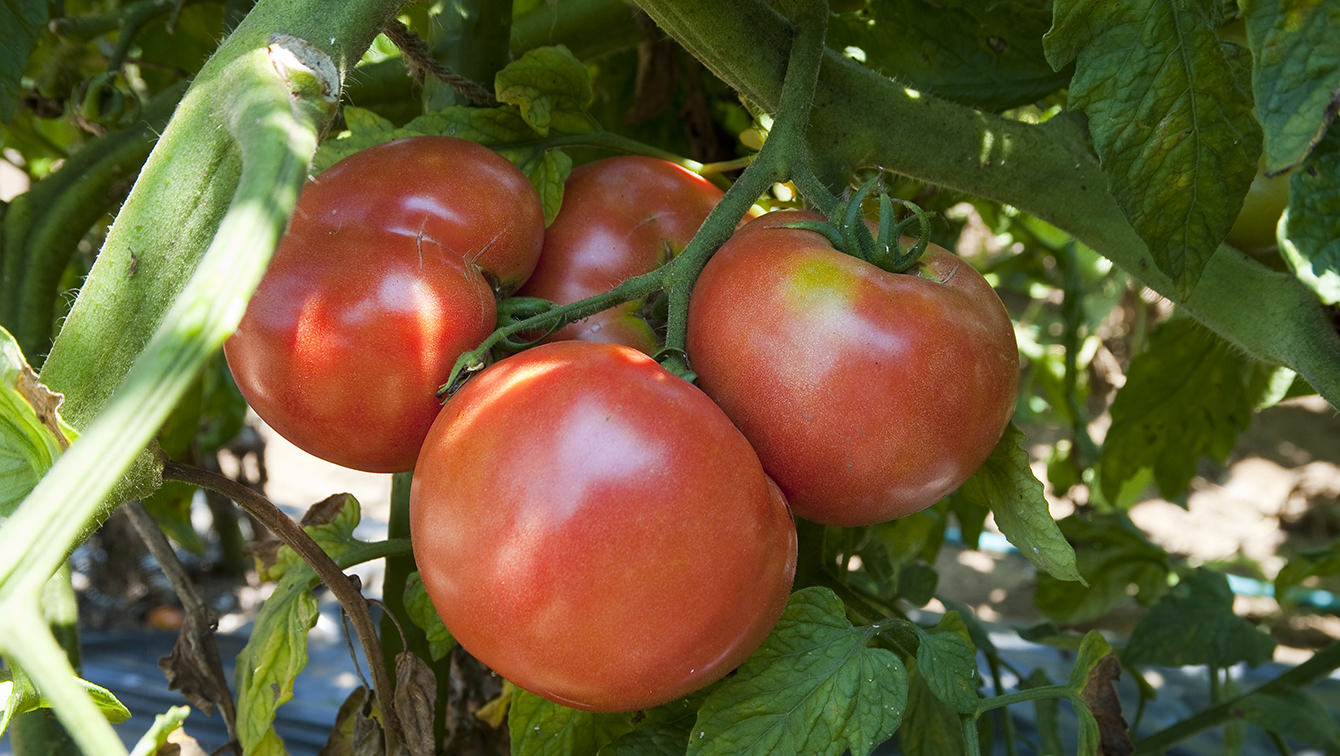stems: (794, 160, 904, 277), (487, 274, 650, 347), (650, 282, 695, 380)
tomato: (406, 341, 800, 715), (219, 136, 544, 474), (682, 206, 1023, 526), (492, 156, 756, 360)
